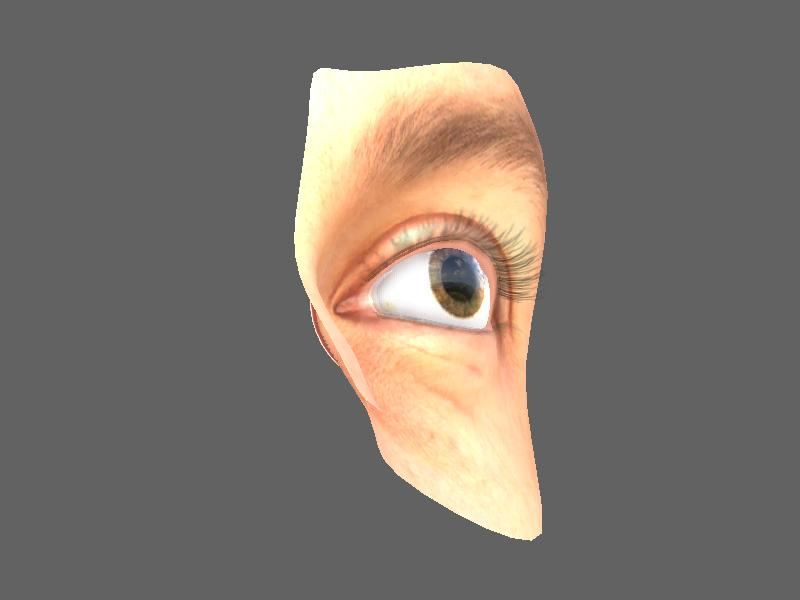iris: (426, 247, 495, 319)
